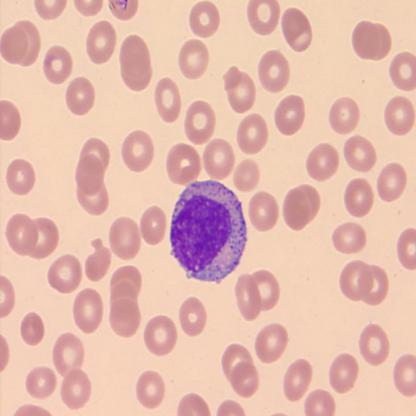Myelocyte: (171, 183, 249, 279)
